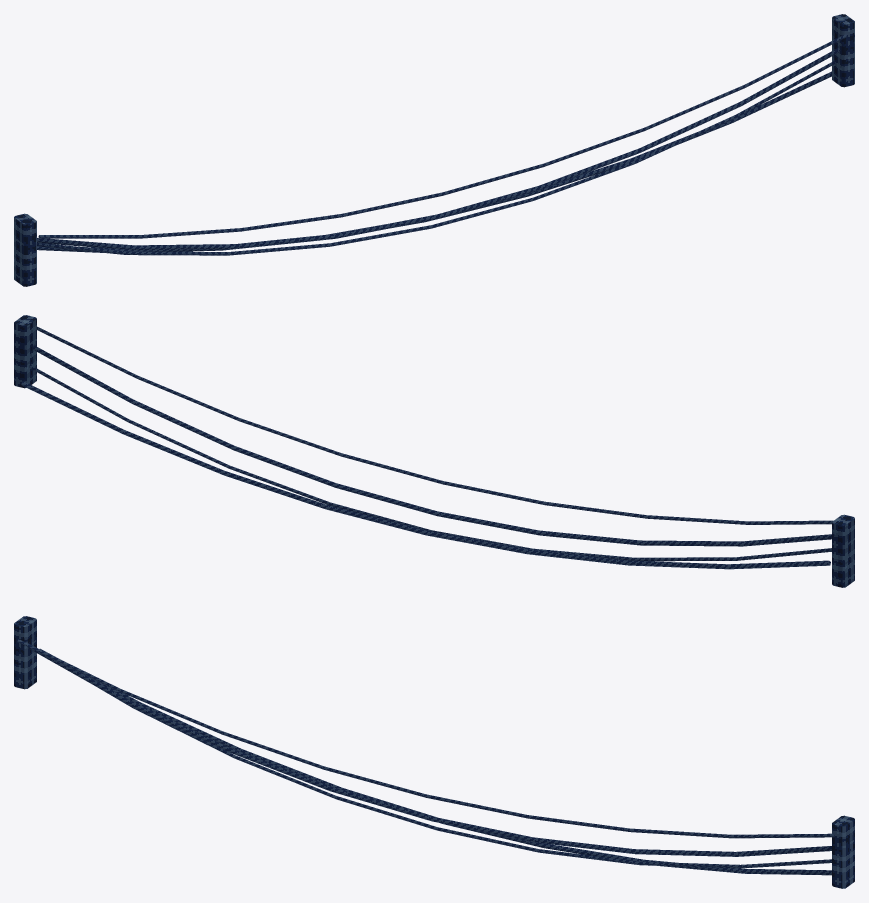
The model's file is cytech.cables.glb.
The picture shows the model from 3 angles, top to bottom: view 1: azimuth 30°, elevation 25°; view 2: azimuth 150°, elevation 25°; view 3: azimuth 330°, elevation 25°; orthographic projection.
Visible parts, largest first — view 1: kit_cables; view 2: kit_cables; view 3: kit_cables.
Part boxes in pixels (<box>): kit_cables: <box>14,14,854,286</box>; kit_cables: <box>14,315,854,587</box>; kit_cables: <box>14,616,854,888</box>.
Size of the model in its own units: 12.3 by 1.57 by 0.6.
Materials: 2 (2 with a texture image).
